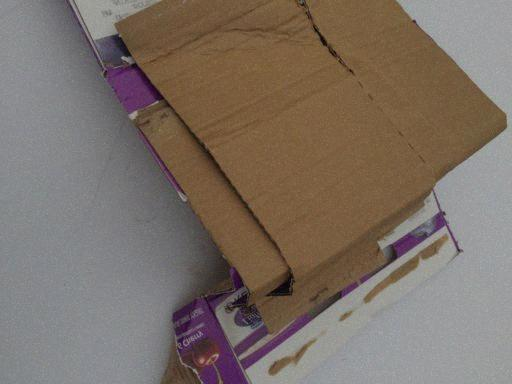cardboard: (0, 4, 504, 381)
